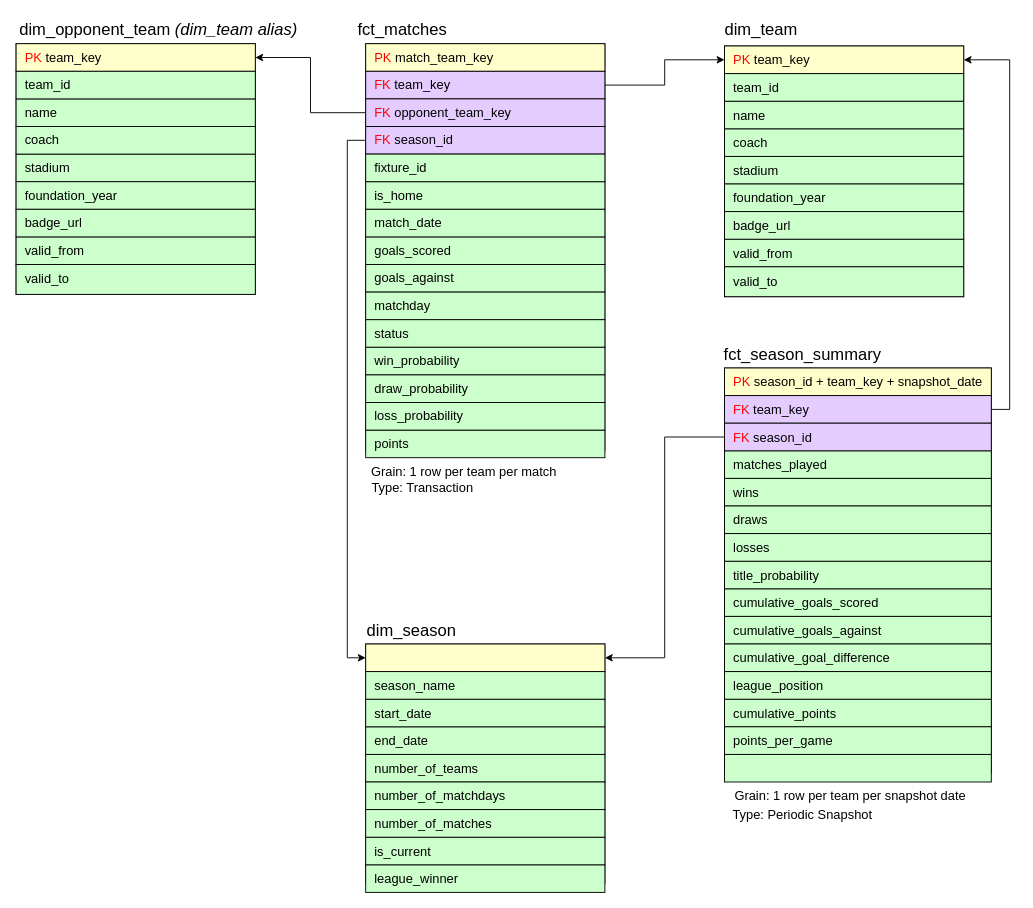
This 1033x908 diagram has some shape labels left out. The centre of each missing label's shape, as x and y in pixels:
PK season_id: point 485,657
snapshot_date: point 857,767
